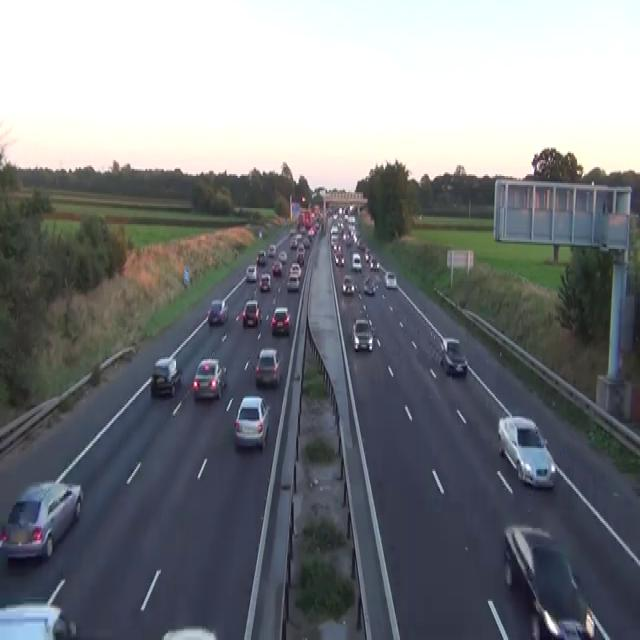Car: (503, 524, 596, 638), (0, 480, 83, 560), (0, 578, 77, 638), (497, 414, 555, 489), (503, 524, 552, 590), (530, 606, 610, 638), (233, 394, 270, 450), (192, 357, 227, 400), (150, 356, 181, 396), (254, 346, 281, 386), (440, 338, 467, 377), (352, 318, 373, 352), (159, 626, 217, 638), (242, 299, 262, 327), (207, 299, 228, 325), (271, 306, 290, 334), (440, 336, 459, 354), (363, 274, 377, 295), (341, 274, 356, 293), (384, 270, 397, 288), (286, 272, 299, 290), (259, 272, 271, 290), (245, 263, 257, 281), (289, 261, 301, 279), (352, 252, 362, 270), (271, 260, 282, 276), (256, 249, 266, 265), (330, 226, 339, 243), (369, 256, 379, 270), (296, 249, 304, 265), (278, 249, 287, 263), (335, 252, 344, 266), (267, 244, 276, 256), (289, 236, 297, 249), (333, 244, 343, 254), (307, 226, 315, 238), (302, 238, 310, 249), (364, 247, 370, 261), (289, 226, 296, 234), (258, 228, 262, 238)
